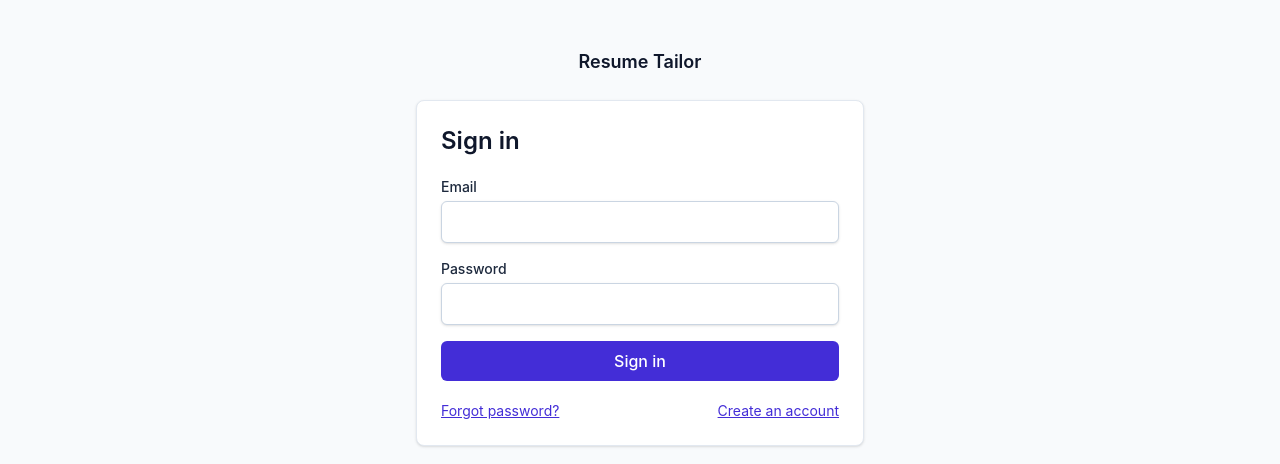
Test case: Sign in › signs in and returns to the page the user wanted
The image size is (1280, 464).
Type "jordan@example.com" into the field labelled "Email" at point(640, 222), box [441,201,839,243]
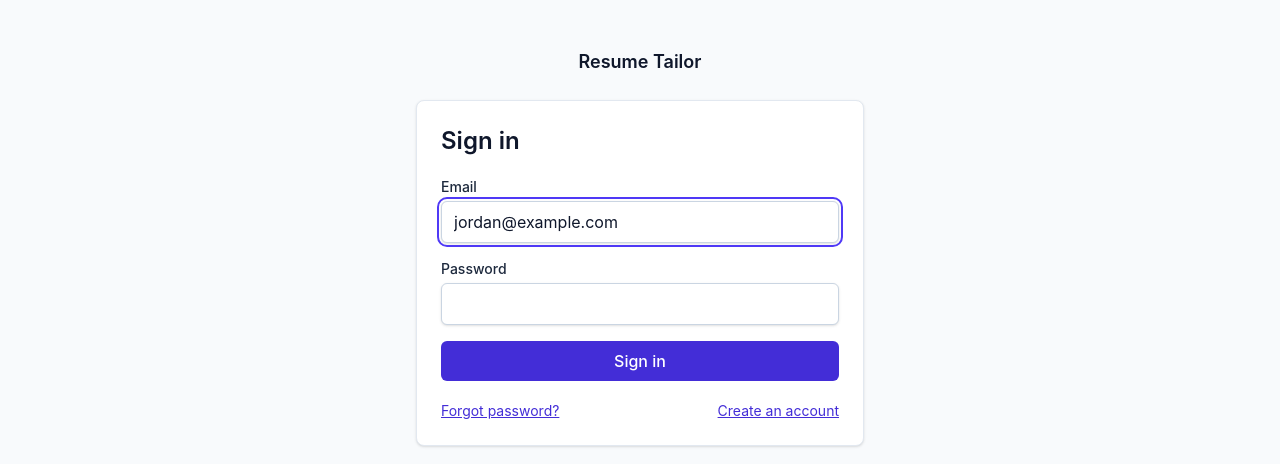
Type "correct horse battery" into the password field labelled "Password" at point(640, 304), box [441,283,839,325]
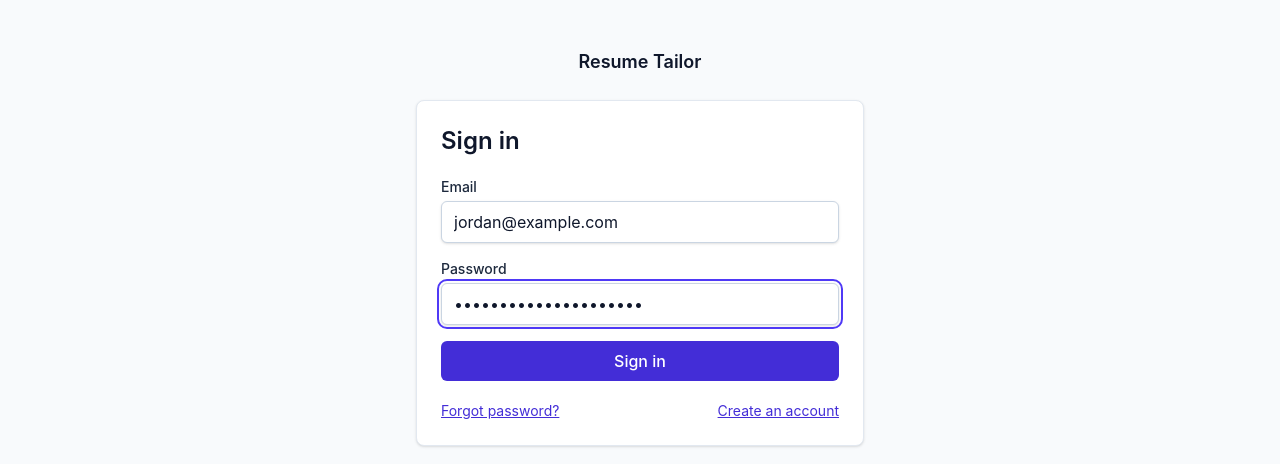
Click the button "Sign in" at point(640, 361), box [441,341,839,381]
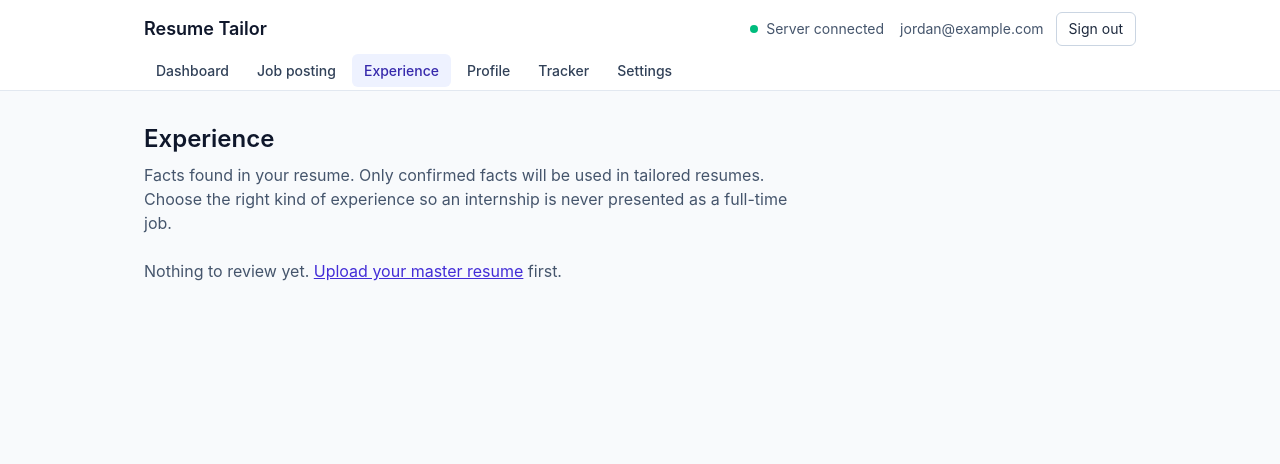
Expected: the heading "Experience" is shown, [144,124,274,153]
